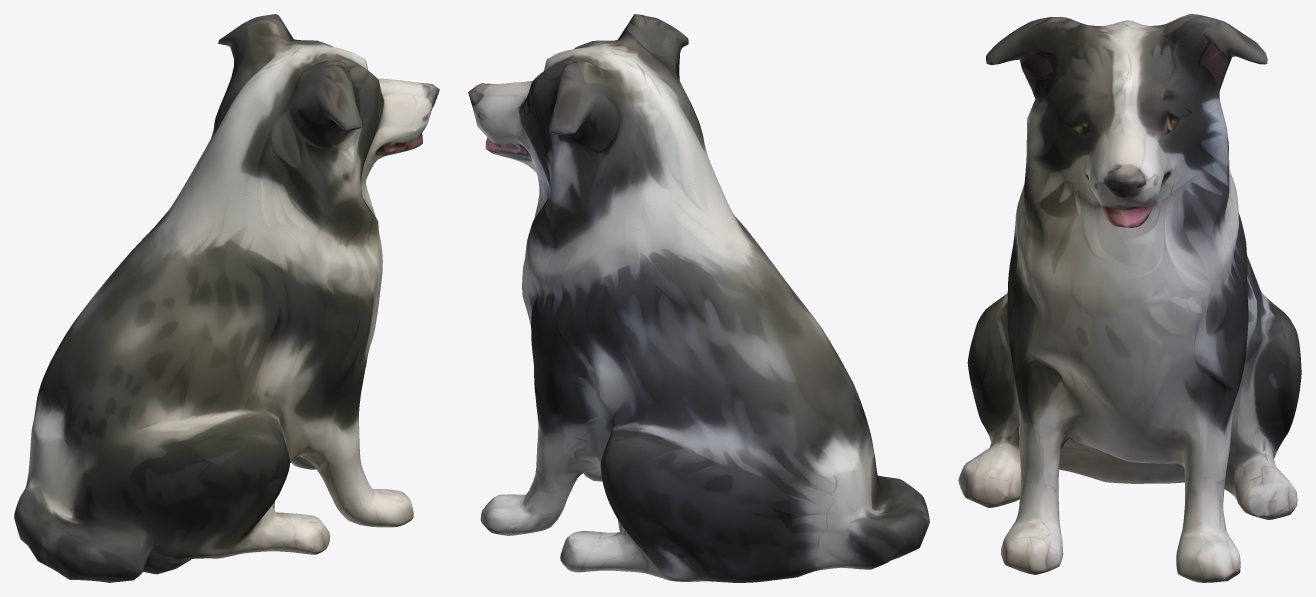
Rendered from borderco-6591-4b06-bcd1-ad2de496750c.glb.
3 views of the same model, side by side, from view 1: azimuth 30°, elevation 25°; view 2: azimuth 150°, elevation 25°; view 3: azimuth 270°, elevation 25° (orthographic). The views are drawn at different scales.
Size of the model in its own units: 1.14 by 1.2 by 0.7061.
Materials: 1 (1 with a texture image).
